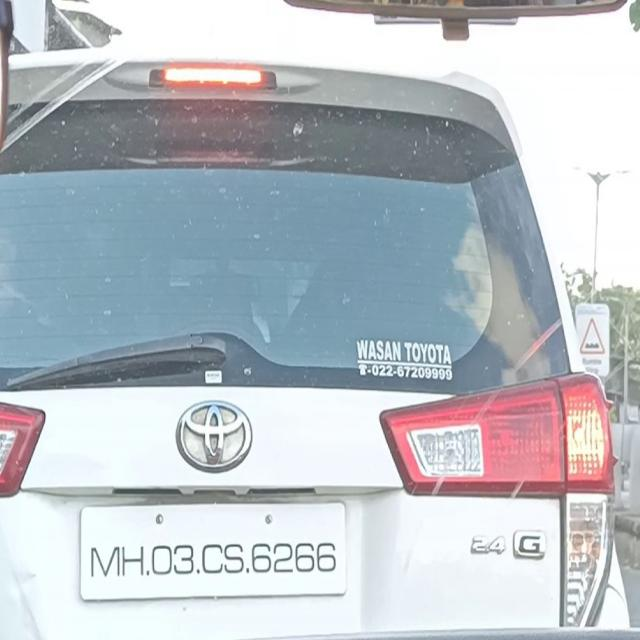Plate: (78, 499, 347, 602)
